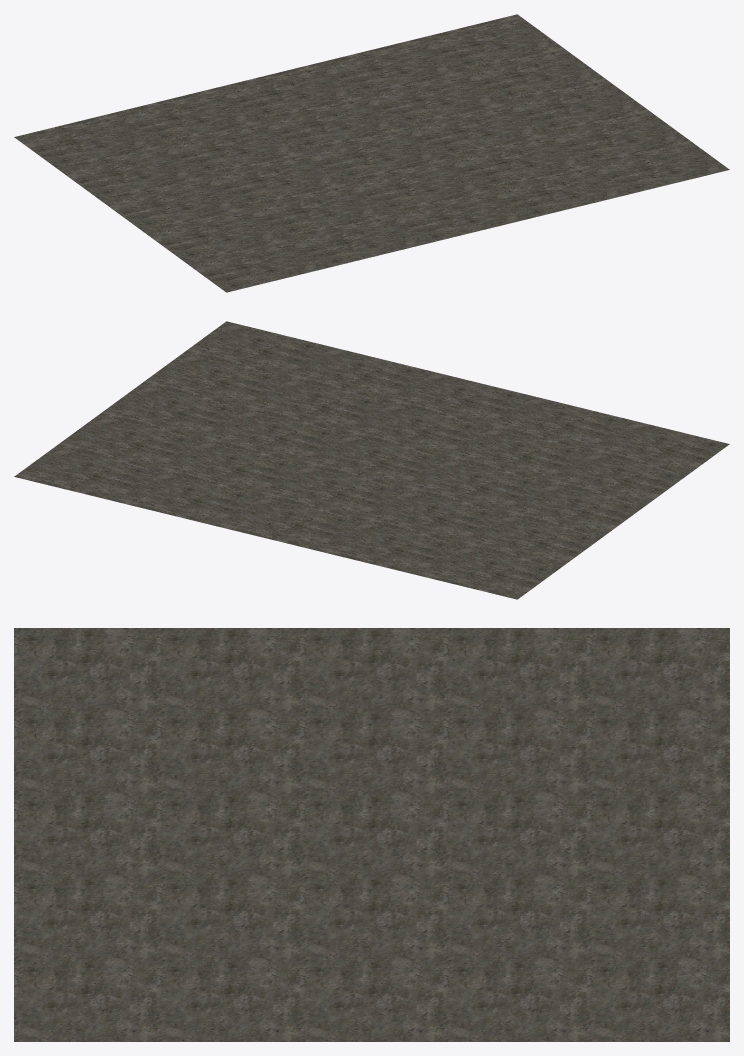
Rendered from DWARF_PALACE_FORGE_CAVE_FLOOR.fbx.
The picture shows the model from 3 angles, top to bottom: view 1: azimuth 30°, elevation 25°; view 2: azimuth 150°, elevation 25°; view 3: azimuth 270°, elevation 25°; orthographic projection. The views are drawn at different scales.
Parts seen in each view (by area): view 1: DWARF_PALACE_FORGE_CAVE_FLOOR; view 2: DWARF_PALACE_FORGE_CAVE_FLOOR; view 3: DWARF_PALACE_FORGE_CAVE_FLOOR.
Part boxes in pixels (x1=…): DWARF_PALACE_FORGE_CAVE_FLOOR: x1=14, y1=14, x2=729, y2=292; DWARF_PALACE_FORGE_CAVE_FLOOR: x1=14, y1=321, x2=729, y2=599; DWARF_PALACE_FORGE_CAVE_FLOOR: x1=14, y1=628, x2=729, y2=1041.
Size of the model in its own units: 938157 by 0.1117 by 685871.
Materials: 1 (1 with a texture image).
